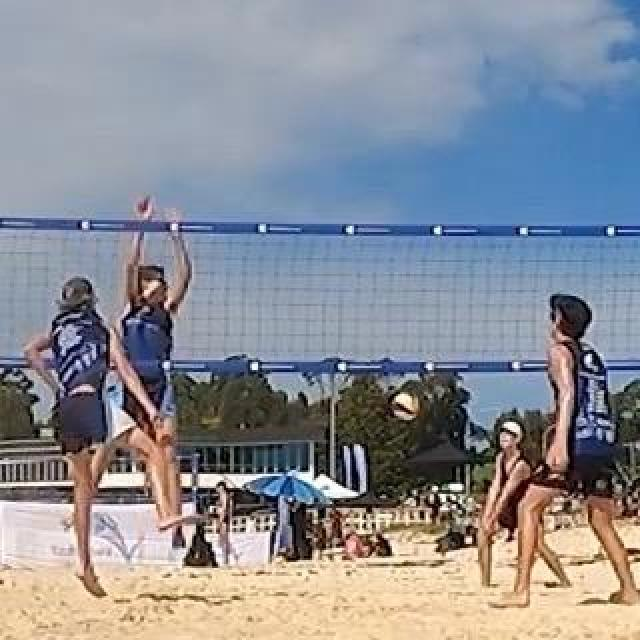volleyball: (392, 392, 420, 420)
